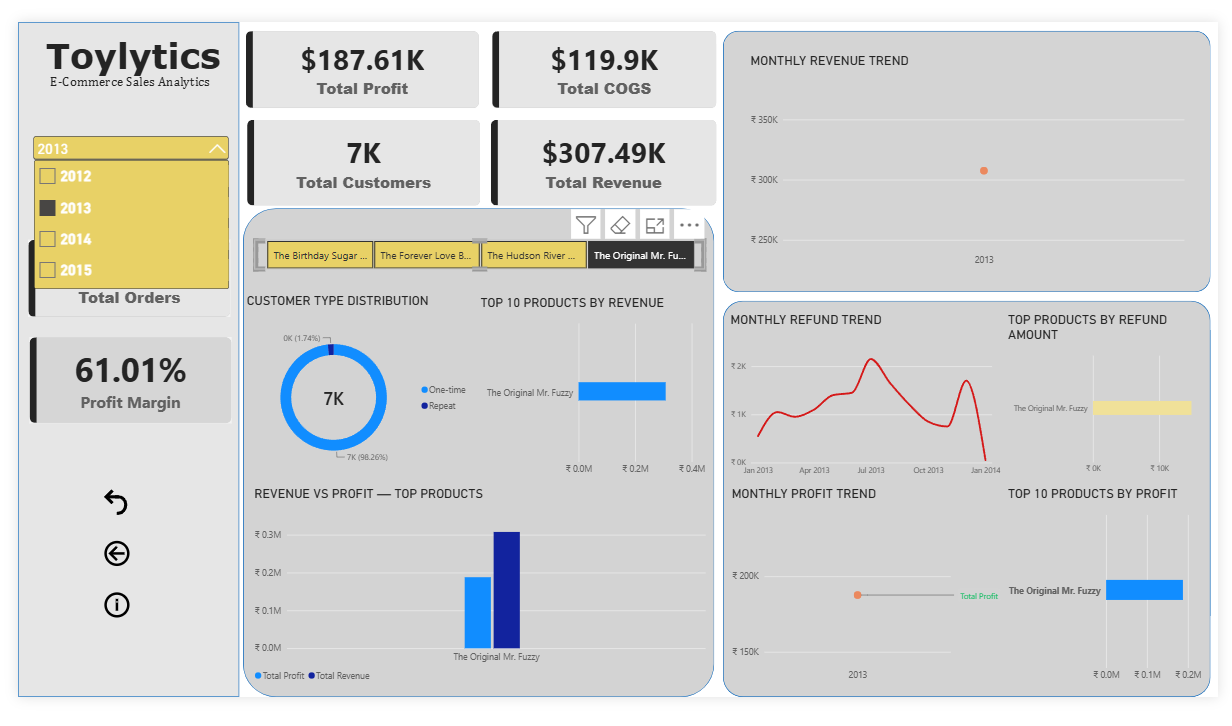

The page's visual inventory and layout, read from the dashboard file:
{"tool":"powerbi","page":{"name":"Page 1","canvas":[1920,1080],"ordinal":0},"visuals":[{"type":"shape","box":[1128,446,780,634],"z":0},{"type":"shape","box":[1128,14,780,418],"z":1000},{"type":"shape","box":[0,0,354,1080],"z":2000},{"type":"shape","box":[360,298,754,782],"z":3000},{"type":"cardVisual","fields":{"Data":["order.Total Profit"]},"box":[364,14,374,124],"z":4000},{"type":"cardVisual","fields":{"Data":["order.Total Orders"]},"box":[16,348,324,124],"z":5000},{"type":"cardVisual","fields":{"Data":["order.Total Customers"]},"box":[366,156,374,138],"z":6000},{"type":"cardVisual","fields":{"Data":["order.Total COGS"]},"box":[758,14,360,124],"z":7000},{"type":"cardVisual","fields":{"Data":["order item.Total Revenue"]},"box":[756,156,362,138],"z":8000},{"type":"lineChart","title":"MONTHLY REVENUE TREND","fields":{"Category":["order.created_at.Variation.Date Hierarchy.Year","order.created_at.Variation.Date Hierarchy.Quarter","order.created_at.Variation.Date Hierarchy.Month","order.created_at.Variation.Date Hierarchy.Day"],"Y":["order item.Total Revenue"]},"box":[1172,50,694,346],"z":9000},{"type":"lineChart","title":"MONTHLY PROFIT TREND","fields":{"Category":["order.created_at.Variation.Date Hierarchy.Year","order.created_at.Variation.Date Hierarchy.Quarter","order.created_at.Variation.Date Hierarchy.Month","order.created_at.Variation.Date Hierarchy.Day"],"Y":["order.Total Profit"]},"box":[1142,742,430,318],"z":10000},{"type":"donutChart","title":"CUSTOMER TYPE DISTRIBUTION","fields":{"Category":["order.Customer Type"],"Y":["order.Total Customers"]},"box":[366,434,360,294],"z":11000},{"type":"clusteredBarChart","title":"TOP 10 PRODUCTS BY PROFIT","fields":{"Category":["product.product_name"],"Y":["order.Total Profit"]},"box":[1584,742,310,318],"z":12000},{"type":"clusteredColumnChart","title":"REVENUE VS PROFIT — TOP PRODUCTS","fields":{"Category":["product.product_name"],"Y":["order.Total Profit","order item.Total Revenue"]},"box":[378,742,722,318],"z":13000},{"type":"barChart","title":"TOP 10 PRODUCTS BY REVENUE","fields":{"Category":["product.product_name"],"Y":["order item.Total Revenue"]},"box":[740,436,360,294],"z":14000},{"type":"barChart","title":"TOP PRODUCTS BY REFUND AMOUNT","fields":{"Category":["product.product_name"],"Y":["Sum(order item refund.refund_amount_usd)"]},"box":[1584,464,310,264],"z":15000},{"type":"lineChart","title":"MONTHLY REFUND TREND","fields":{"Category":["order item refund.created_at.Variation.Date Hierarchy.Year","order item refund.created_at.Variation.Date Hierarchy.Quarter","order item refund.created_at.Variation.Date Hierarchy.Month"],"Y":["Sum(order item refund.refund_amount_usd)"]},"box":[1140,464,432,266],"z":16000},{"type":"slicer","title":"year","fields":{"Values":["order.created_at.Variation.Date Hierarchy.Year"]},"box":[20,178,322,62],"z":17000},{"type":"slicer","fields":{"Values":["product.product_name"]},"box":[378,348,722,48],"z":18000},{"type":"textbox","box":[0,14,354,92],"z":19000},{"type":"textbox","box":[18,82,322,110],"z":20000},{"type":"cardVisual","fields":{"Data":["order.Profit Margin"]},"box":[18,504,324,138],"z":21000},{"type":"actionButton","box":[100,728,106,82],"z":22000},{"type":"actionButton","box":[48,780,212,142],"z":23000},{"type":"actionButton","box":[104,880,100,108],"z":24000}]}

Visuals, with their boxes on the page's 1920x1080 design canvas (x1, y1, x2, y2). These are canvas units, not pixel positions in the 1232x726 screenshot, which may show the page scaled, cropped or inside an application window:
shape: bbox=[1128, 446, 1908, 1080]
shape: bbox=[1128, 14, 1908, 432]
shape: bbox=[0, 0, 354, 1080]
shape: bbox=[360, 298, 1114, 1080]
cardVisual - order.Total Profit: bbox=[364, 14, 738, 138]
cardVisual - order.Total Orders: bbox=[16, 348, 340, 472]
cardVisual - order.Total Customers: bbox=[366, 156, 740, 294]
cardVisual - order.Total COGS: bbox=[758, 14, 1118, 138]
cardVisual - order item.Total Revenue: bbox=[756, 156, 1118, 294]
"MONTHLY REVENUE TREND" lineChart: bbox=[1172, 50, 1866, 396]
"MONTHLY PROFIT TREND" lineChart: bbox=[1142, 742, 1572, 1060]
"CUSTOMER TYPE DISTRIBUTION" donutChart: bbox=[366, 434, 726, 728]
"TOP 10 PRODUCTS BY PROFIT" clusteredBarChart: bbox=[1584, 742, 1894, 1060]
"REVENUE VS PROFIT — TOP PRODUCTS" clusteredColumnChart: bbox=[378, 742, 1100, 1060]
"TOP 10 PRODUCTS BY REVENUE" barChart: bbox=[740, 436, 1100, 730]
"TOP PRODUCTS BY REFUND AMOUNT" barChart: bbox=[1584, 464, 1894, 728]
"MONTHLY REFUND TREND" lineChart: bbox=[1140, 464, 1572, 730]
"year" slicer: bbox=[20, 178, 342, 240]
slicer - product.product_name: bbox=[378, 348, 1100, 396]
textbox: bbox=[0, 14, 354, 106]
textbox: bbox=[18, 82, 340, 192]
cardVisual - order.Profit Margin: bbox=[18, 504, 342, 642]
actionButton: bbox=[100, 728, 206, 810]
actionButton: bbox=[48, 780, 260, 922]
actionButton: bbox=[104, 880, 204, 988]
